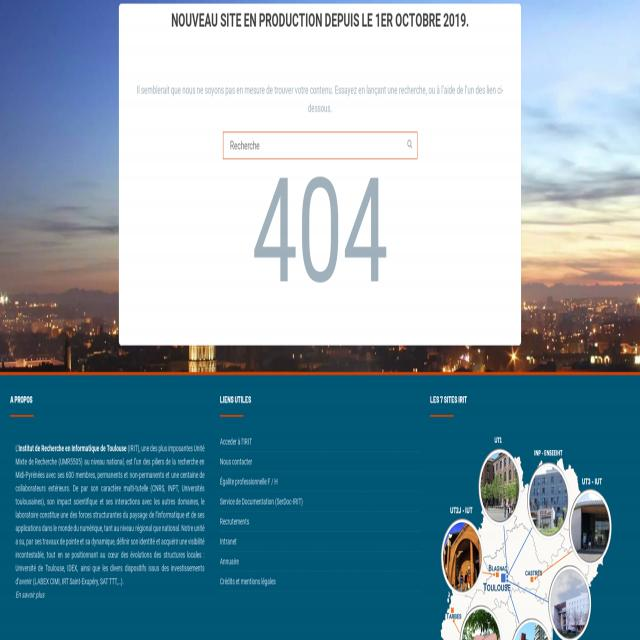button: (568, 490, 612, 566), (528, 463, 569, 540), (479, 452, 521, 526), (441, 520, 483, 594), (548, 566, 590, 640), (458, 605, 501, 640), (512, 619, 551, 640), (404, 134, 416, 156)
field: (223, 132, 417, 159)
